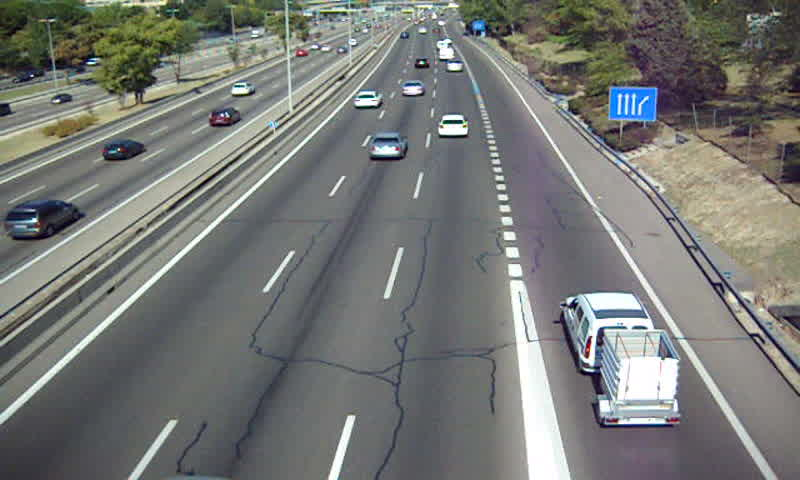car: (368, 132, 407, 160), (438, 115, 469, 138), (353, 90, 381, 110), (400, 80, 426, 98), (412, 57, 430, 71), (446, 60, 465, 73)
van: (564, 293, 654, 375)
